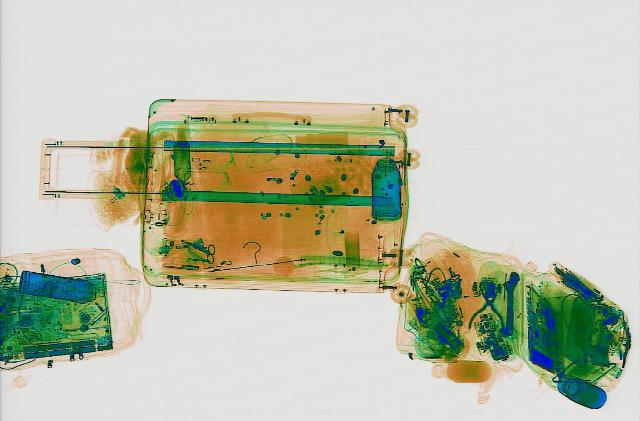Pliers: (468, 283, 510, 332)
